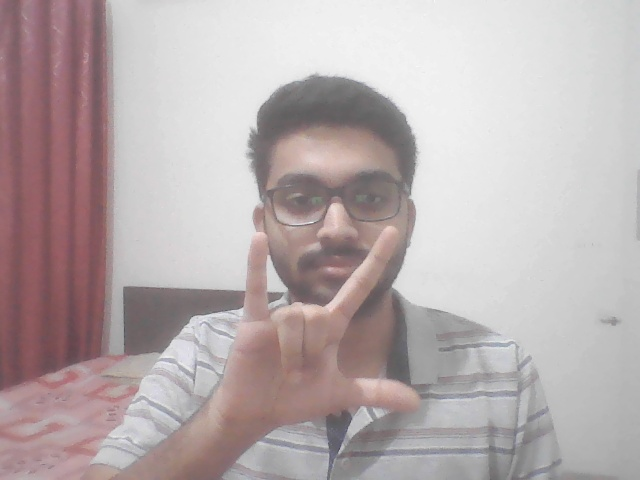iloveyou: (182, 209, 450, 450)
